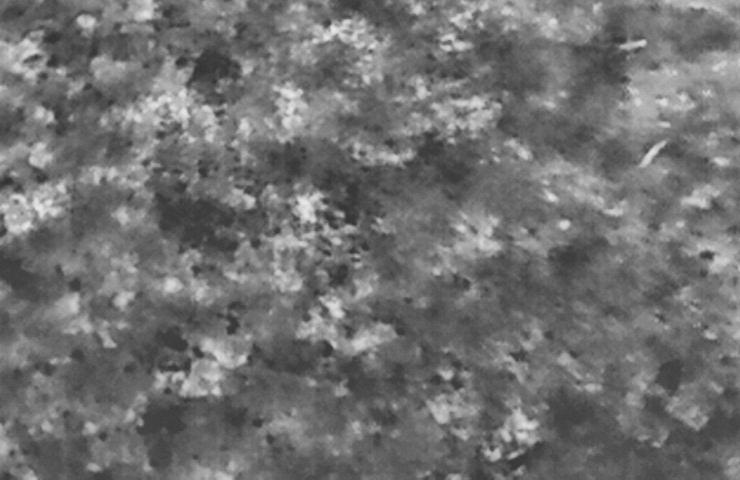landmines: (291, 191, 329, 222)
